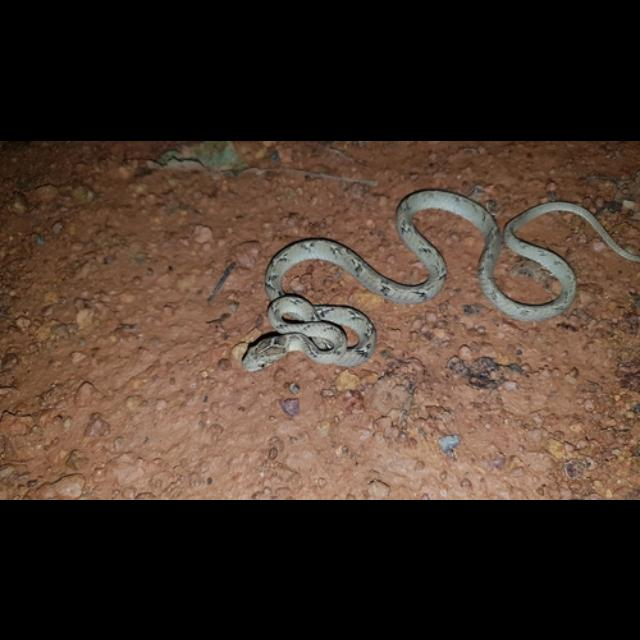snake: (239, 187, 640, 372)
